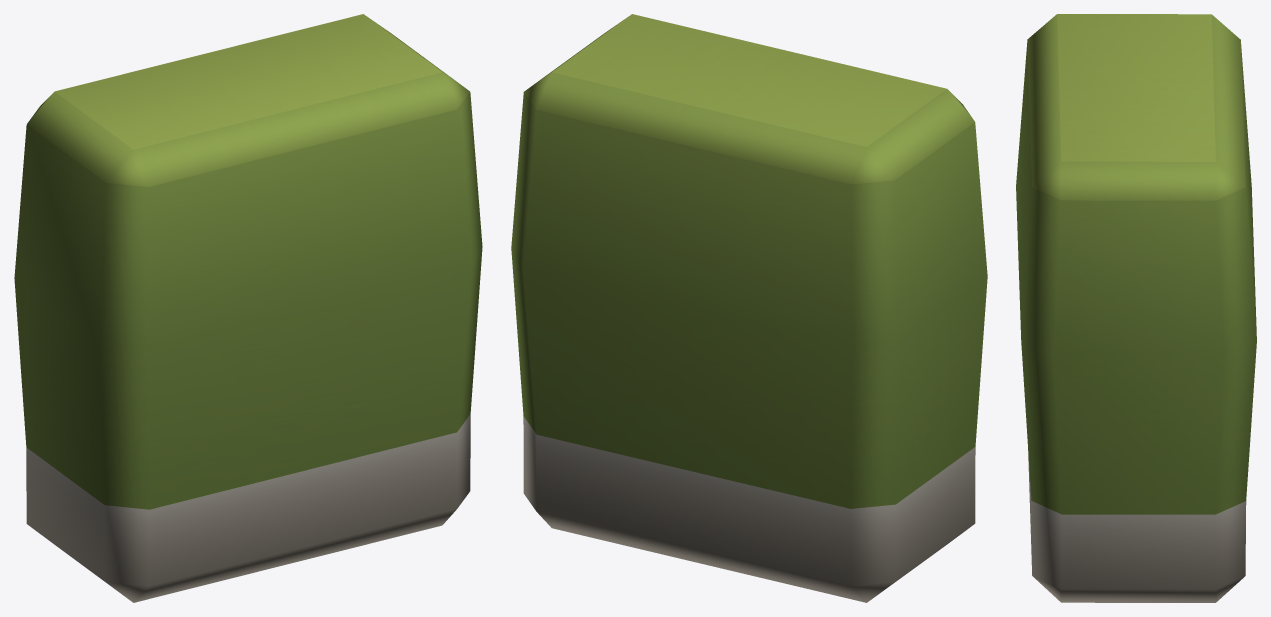
The model's file is hedge_rooftop_1x05_high.fbx.
3 renders of one model, left to right at view 1: azimuth 30°, elevation 25°; view 2: azimuth 150°, elevation 25°; view 3: azimuth 270°, elevation 25°, orthographic. The views are drawn at different scales.
Visible parts, largest first — view 1: hedge_rooftop_1x05_high; view 2: hedge_rooftop_1x05_high; view 3: hedge_rooftop_1x05_high.
Boxes of the visible parts, x1=… form: hedge_rooftop_1x05_high: x1=14, y1=14, x2=482, y2=602; hedge_rooftop_1x05_high: x1=511, y1=14, x2=987, y2=602; hedge_rooftop_1x05_high: x1=1016, y1=14, x2=1256, y2=602.
Size of the model in its own units: 111 by 125 by 61.85.
